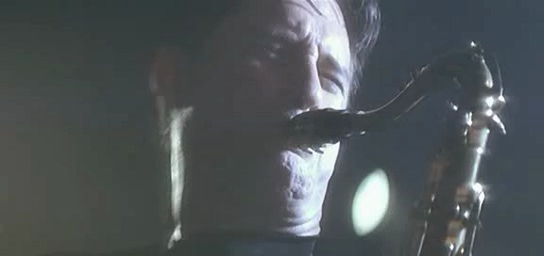ecu: (1, 1, 544, 256)
face: (185, 1, 351, 200)
person: (147, 1, 380, 256)
